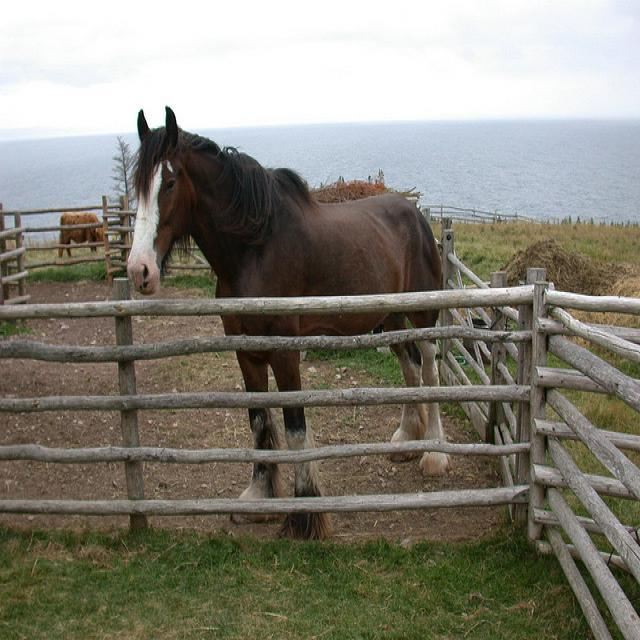cow: (56, 209, 103, 256)
